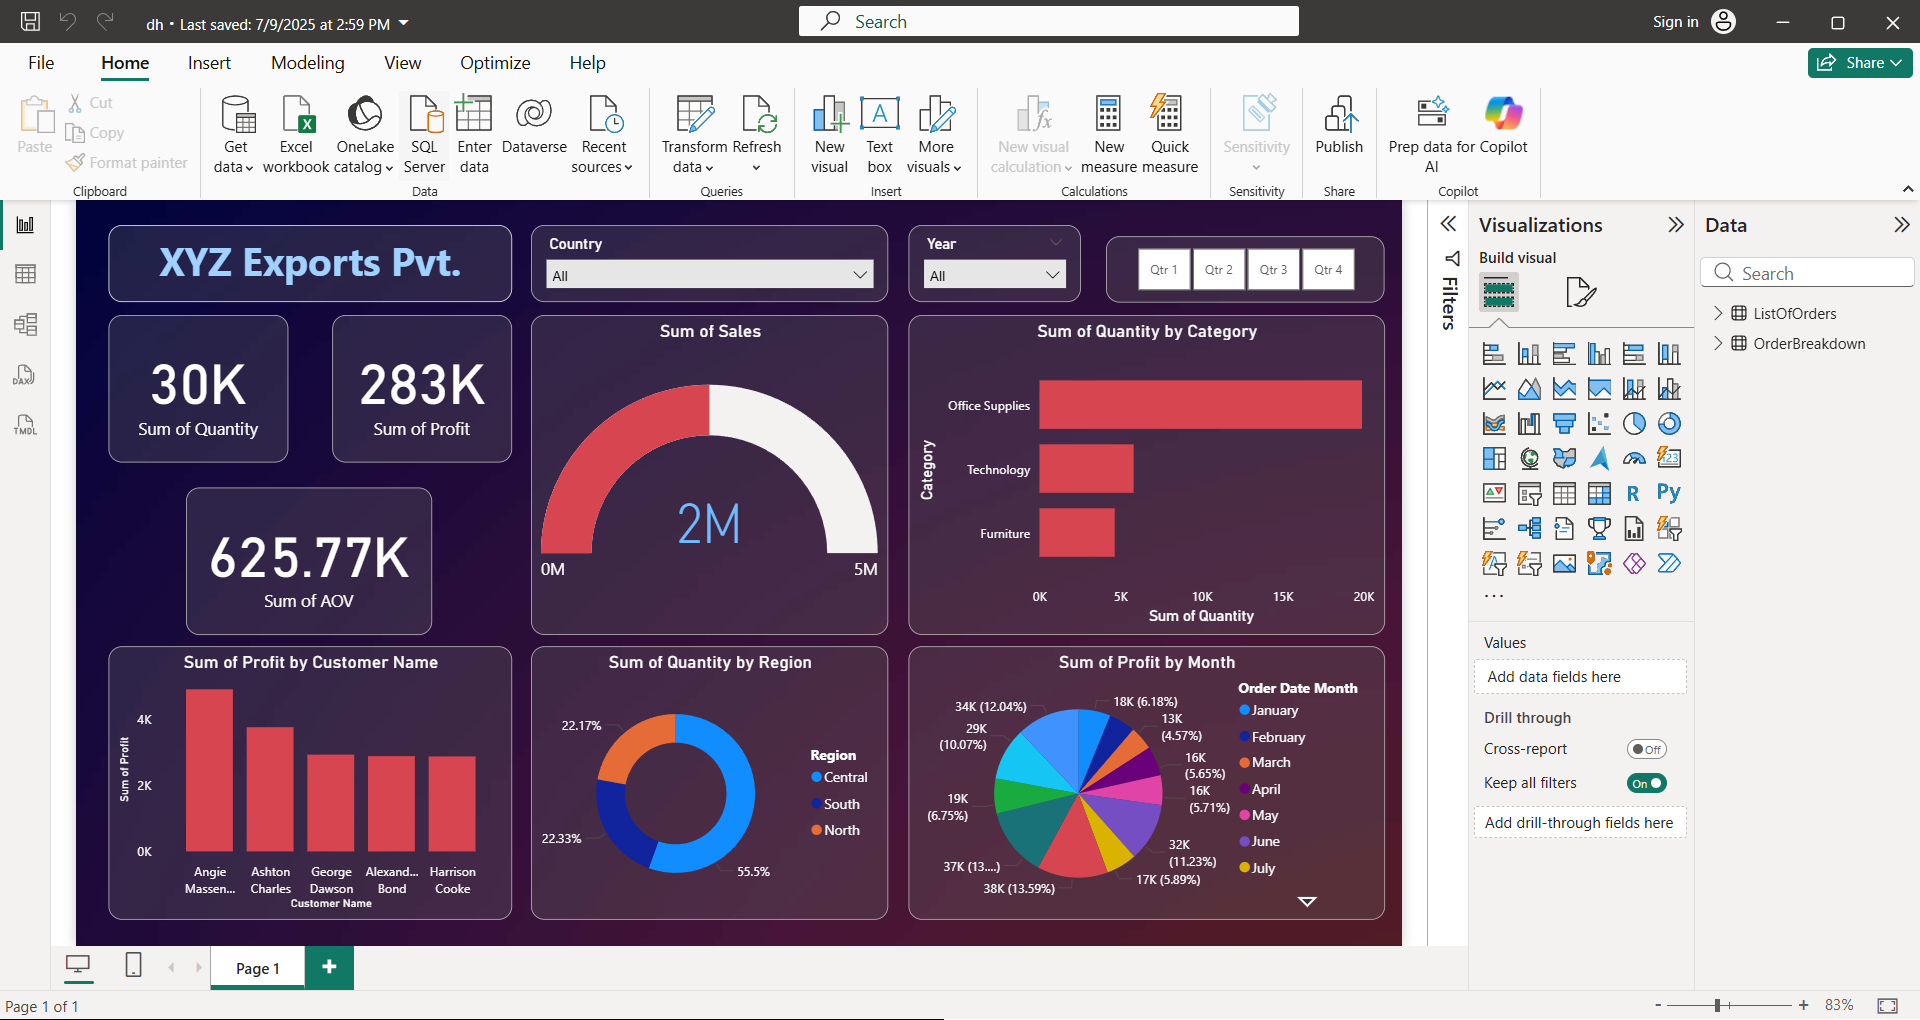

What the dashboard file says about the page in this screenshot:
{"tool":"powerbi","page":{"name":"Page 1","canvas":[1280,720],"ordinal":0},"visuals":[{"type":"textbox","box":[31.4,24.1,389.7,74.8],"z":0},{"type":"columnChart","fields":{"Category":["ListOfOrders.Customer Name"],"Y":["Sum(OrderBreakdown.Profit)"]},"box":[31.4,430.7,389.7,264.2],"z":1000},{"type":"pieChart","fields":{"Category":["ListOfOrders.Order Date.Variation.Date Hierarchy.Month"],"Y":["Sum(OrderBreakdown.Profit)"]},"box":[803.5,430.7,459.7,264.2],"z":2000},{"type":"donutChart","fields":{"Category":["ListOfOrders.Region"],"Y":["Sum(OrderBreakdown.Quantity)"]},"box":[439.1,430.7,345,264.2],"z":3000},{"type":"gauge","fields":{"Y":["Sum(OrderBreakdown.Sales)"]},"box":[439.1,111,345,308.8],"z":4000},{"type":"clusteredBarChart","fields":{"Category":["OrderBreakdown.Category"],"Y":["Sum(OrderBreakdown.Quantity)"]},"box":[803.5,111,459.7,308.8],"z":5000},{"type":"card","fields":{"Values":["Sum(OrderBreakdown.Quantity)"]},"box":[31.4,111,173.7,142.4],"z":6000},{"type":"card","fields":{"Values":["Sum(OrderBreakdown.Profit)"]},"box":[247.3,111,173.7,142.4],"z":7000},{"type":"card","fields":{"Values":["Sum(OrderBreakdown.AOV)"]},"box":[106.2,277.5,237.7,142.4],"z":8000},{"type":"slicer","fields":{"Values":["ListOfOrders.Order Date.Variation.Date Hierarchy.Quarter"]},"box":[994.1,35,269,63.9],"z":9000},{"type":"slicer","fields":{"Values":["ListOfOrders.Country"]},"box":[439.1,24.1,345,74.8],"z":10000},{"type":"slicer","fields":{"Values":["ListOfOrders.Order Date.Variation.Date Hierarchy.Year"]},"box":[803.5,24.1,166.5,74.8],"z":11000}]}

Visuals, with their boxes on the page's 1280x720 design canvas (x1, y1, x2, y2). These are canvas units, not pixel positions in the 1920x1020 screenshot, which may show the page scaled, cropped or inside an application window:
textbox: 31/24/421/99
columnChart - ListOfOrders.Customer Name x Sum(OrderBreakdown.Profit): 31/431/421/695
pieChart - ListOfOrders.Order Date.Variation.Date Hierarchy.Month x Sum(OrderBreakdown.Profit): 804/431/1263/695
donutChart - ListOfOrders.Region x Sum(OrderBreakdown.Quantity): 439/431/784/695
gauge - Sum(OrderBreakdown.Sales): 439/111/784/420
clusteredBarChart - OrderBreakdown.Category x Sum(OrderBreakdown.Quantity): 804/111/1263/420
card - Sum(OrderBreakdown.Quantity): 31/111/205/253
card - Sum(OrderBreakdown.Profit): 247/111/421/253
card - Sum(OrderBreakdown.AOV): 106/278/344/420
slicer - ListOfOrders.Order Date.Variation.Date Hierarchy.Quarter: 994/35/1263/99
slicer - ListOfOrders.Country: 439/24/784/99
slicer - ListOfOrders.Order Date.Variation.Date Hierarchy.Year: 804/24/970/99
